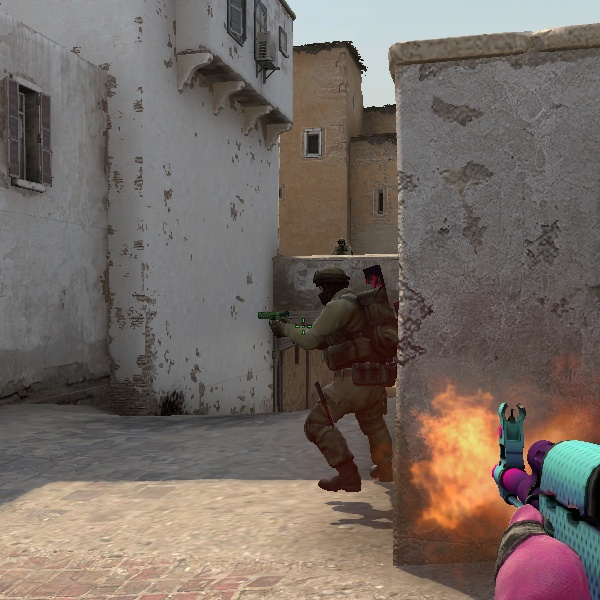ct_body: (278, 266, 395, 490), (331, 238, 354, 255)
ct_head: (337, 239, 346, 248)
t_head: (312, 266, 351, 303)
